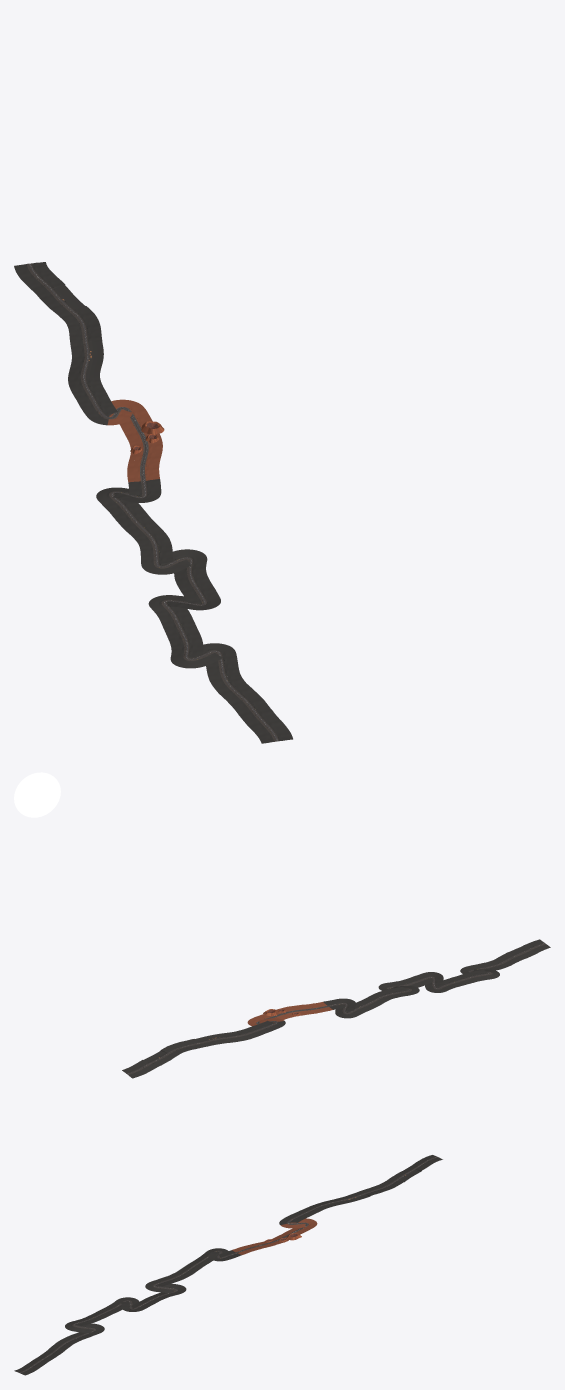
Rendered from etna.glb.
3 renders of one model, top to bottom at view 1: azimuth 30°, elevation 25°; view 2: azimuth 150°, elevation 25°; view 3: azimuth 330°, elevation 25°, orthographic. The views are drawn at different scales.
Parts seen in each view (by area): view 1: no part large enough to name; view 2: Sun; view 3: no part large enough to name.
Boxes of the visible parts, x1,y1,x2,y2 form: Sun: (14, 772, 60, 817).
Size of the model in its own units: 6929 by 4097 by 9705.
